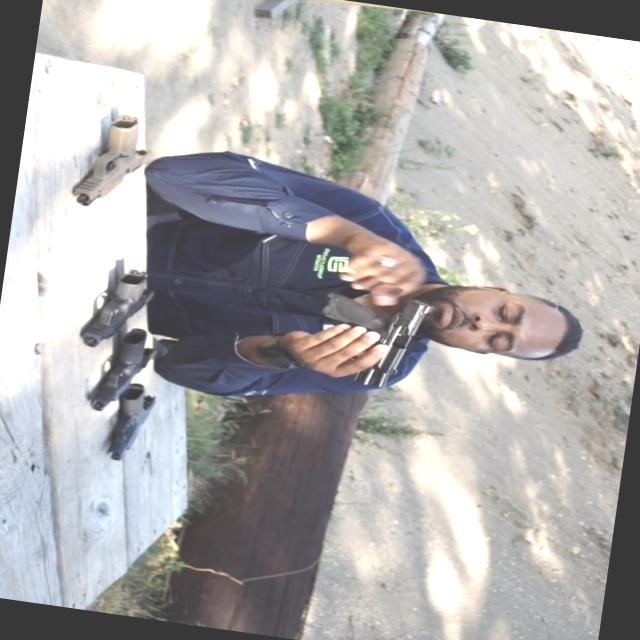handgun: (294, 285, 442, 393), (54, 101, 178, 219), (58, 244, 164, 356), (80, 318, 162, 420), (87, 374, 166, 466)
